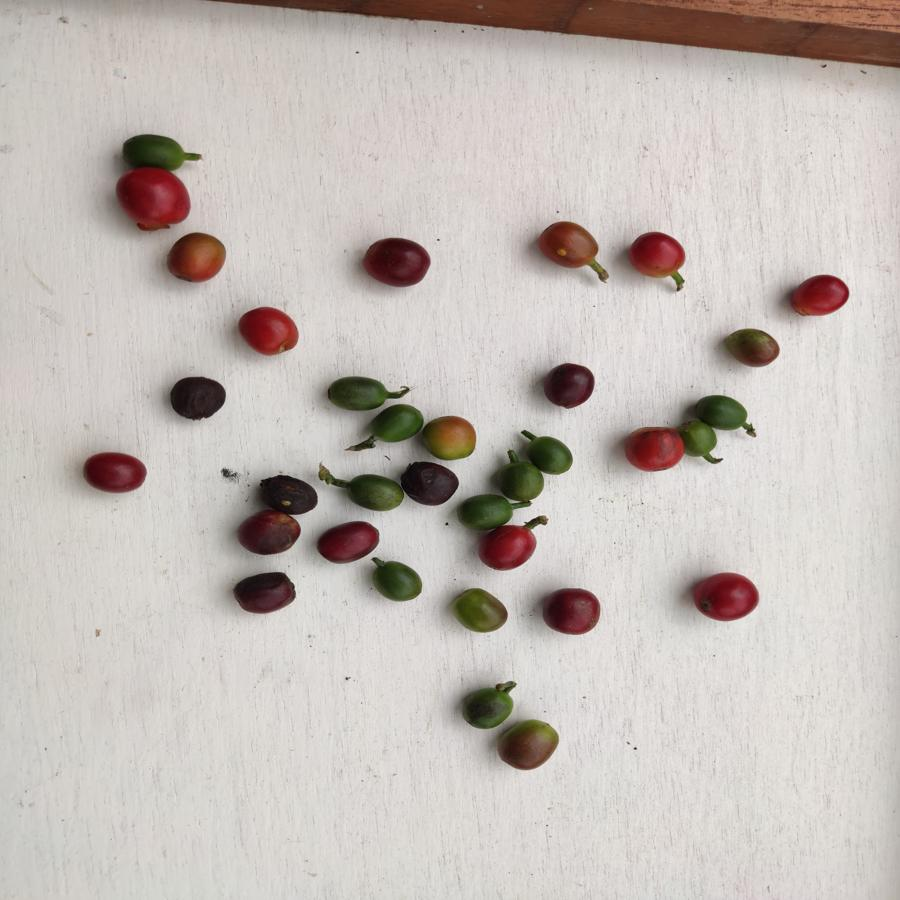Inmaduro: (116, 134, 193, 168), (369, 560, 429, 603), (326, 376, 396, 410), (345, 473, 403, 513), (460, 687, 512, 728), (697, 393, 748, 433), (497, 459, 544, 501), (524, 435, 573, 475), (370, 405, 422, 441), (459, 494, 514, 528), (683, 420, 722, 460)
Maduro: (114, 168, 195, 232), (692, 571, 761, 623), (238, 305, 299, 362), (627, 231, 686, 283), (789, 271, 852, 319), (623, 424, 685, 471), (480, 526, 538, 571)
Pinton: (494, 719, 564, 775), (164, 232, 229, 286), (536, 221, 604, 271), (423, 413, 478, 464), (450, 585, 509, 632), (723, 326, 781, 369)
Sobremaduro: (360, 237, 433, 289), (229, 569, 301, 616), (239, 511, 304, 558), (544, 585, 601, 638), (316, 519, 380, 566), (541, 360, 598, 411), (81, 453, 149, 494), (168, 376, 223, 422), (262, 474, 320, 515), (405, 463, 459, 507)
